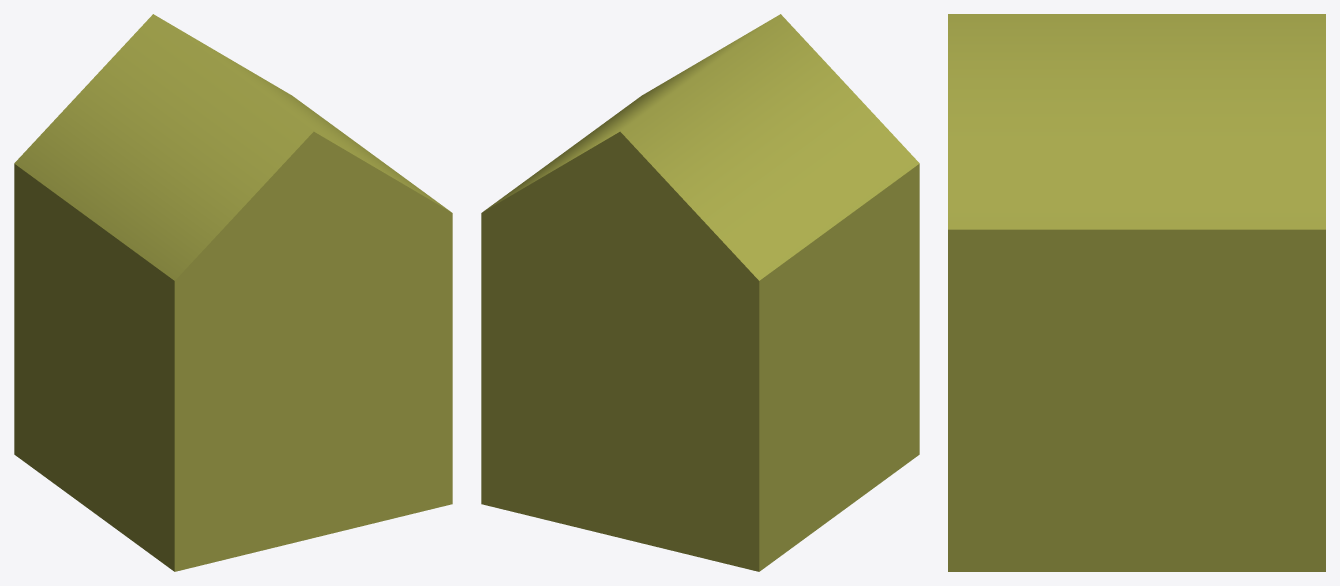
Rendered from House01.fbx.
3 renders of one model, left to right at view 1: azimuth 30°, elevation 25°; view 2: azimuth 150°, elevation 25°; view 3: azimuth 270°, elevation 25°, orthographic. The views are drawn at different scales.
Parts seen in each view (by area): view 1: pCube23; view 2: pCube23; view 3: pCube23.
Boxes of the visible parts, x1,y1,x2,y2 form: pCube23: (14, 14, 452, 571); pCube23: (481, 14, 919, 571); pCube23: (948, 14, 1325, 571).
Bounding box in the file's own units: 30 × 41.91 × 30.
